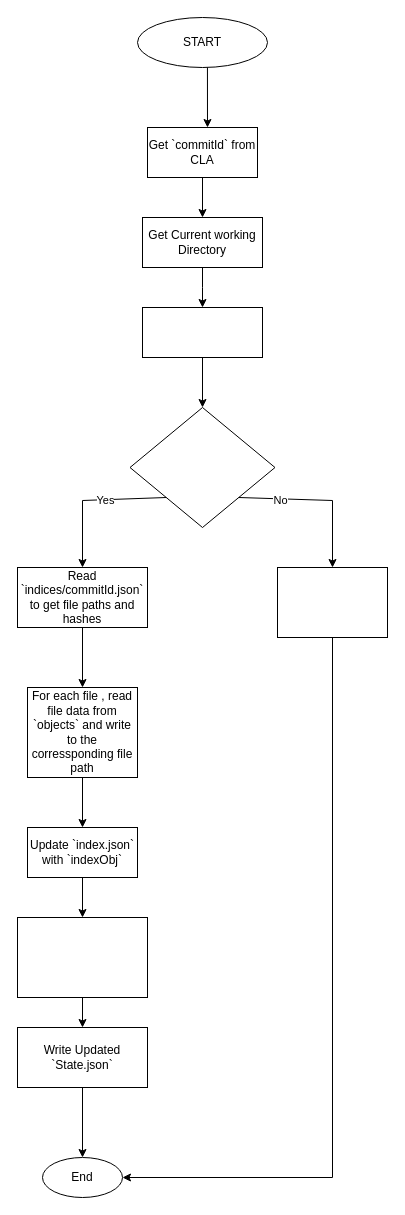
This 405x1215 diagram has some shape labels left out. The centre of each missing label's shape, as x and y in pixels:
Check if `commitId` exists in the history: point 202,467
Log error : "no such commitId": point 332,602
Read `commit.json`: point 202,332
Read `State.json`, set `head` to `commitId`, and `detached` to `true`: point 82,957
